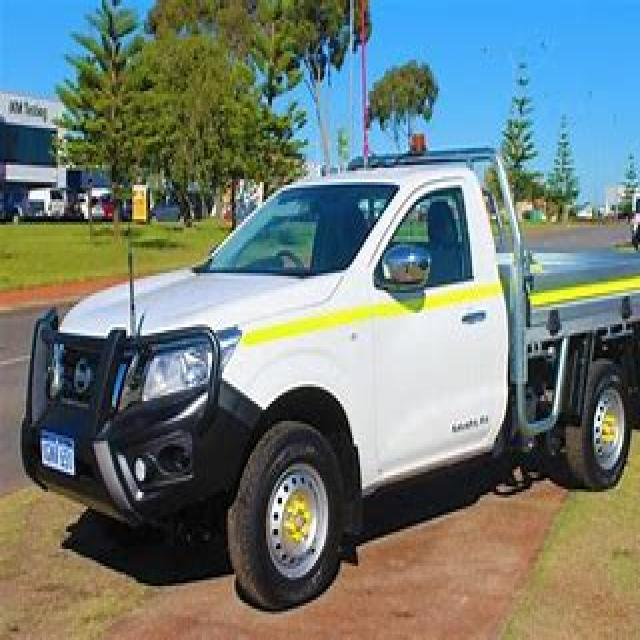light_vehicle: (14, 145, 638, 597)
